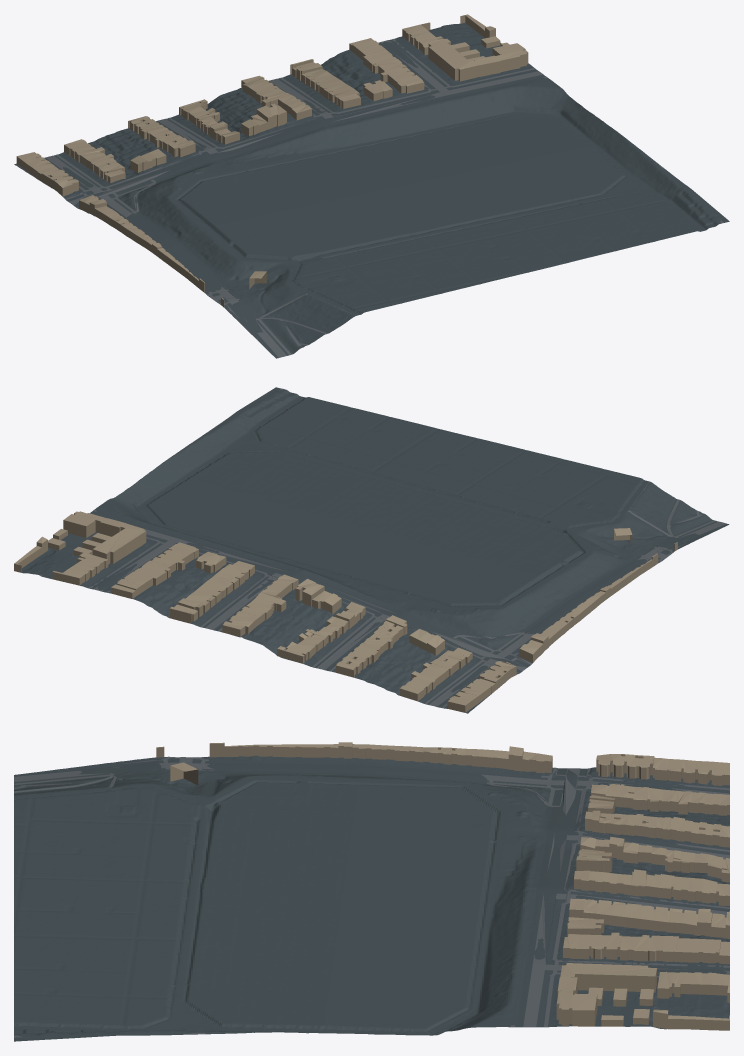
File: epsg26910-1420-10880.lod0.glb
3 renders of one model, top to bottom at view 1: azimuth 30°, elevation 25°; view 2: azimuth 150°, elevation 25°; view 3: azimuth 270°, elevation 25°, orthographic. The views are drawn at different scales.
Parts seen in each view (by area): view 1: epsg26910-1420-10880-lod0; view 2: epsg26910-1420-10880-lod0; view 3: epsg26910-1420-10880-lod0.
Boxes of the visible parts, left/top/right/bottom form: epsg26910-1420-10880-lod0: left=14, top=14, right=729, bottom=358; epsg26910-1420-10880-lod0: left=14, top=387, right=729, bottom=713; epsg26910-1420-10880-lod0: left=14, top=742, right=729, bottom=1041.
Size of the model in its own units: 384 by 39.97 by 384.
